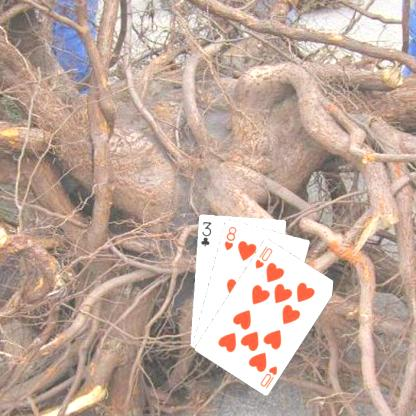10H: (252, 243, 274, 270), (257, 363, 279, 390)
3C: (198, 218, 213, 248)
8H: (221, 223, 238, 252)
